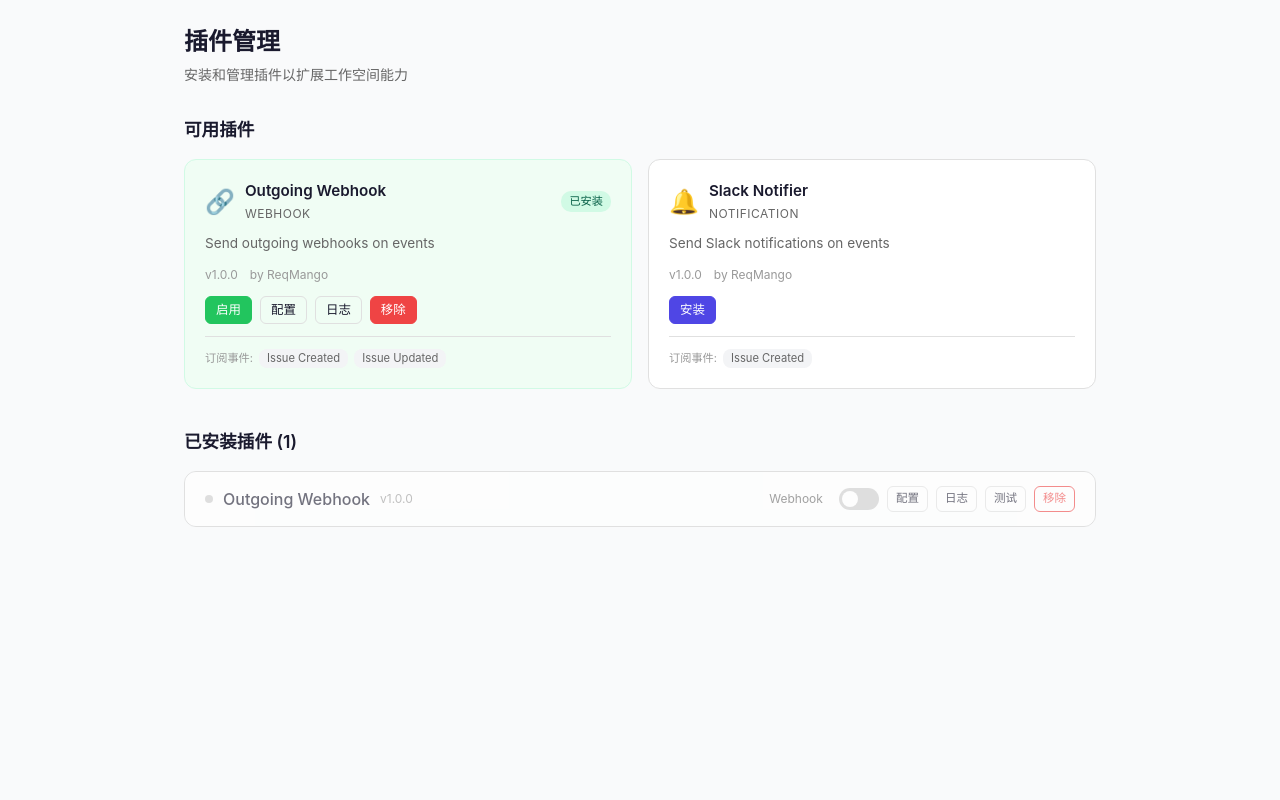
it: Config modal › should open config from catalog card Config button
Click the button with class "btn-outline" below "Send outgoing webhooks on events". click: (284, 310)
box: [260,296,307,324]
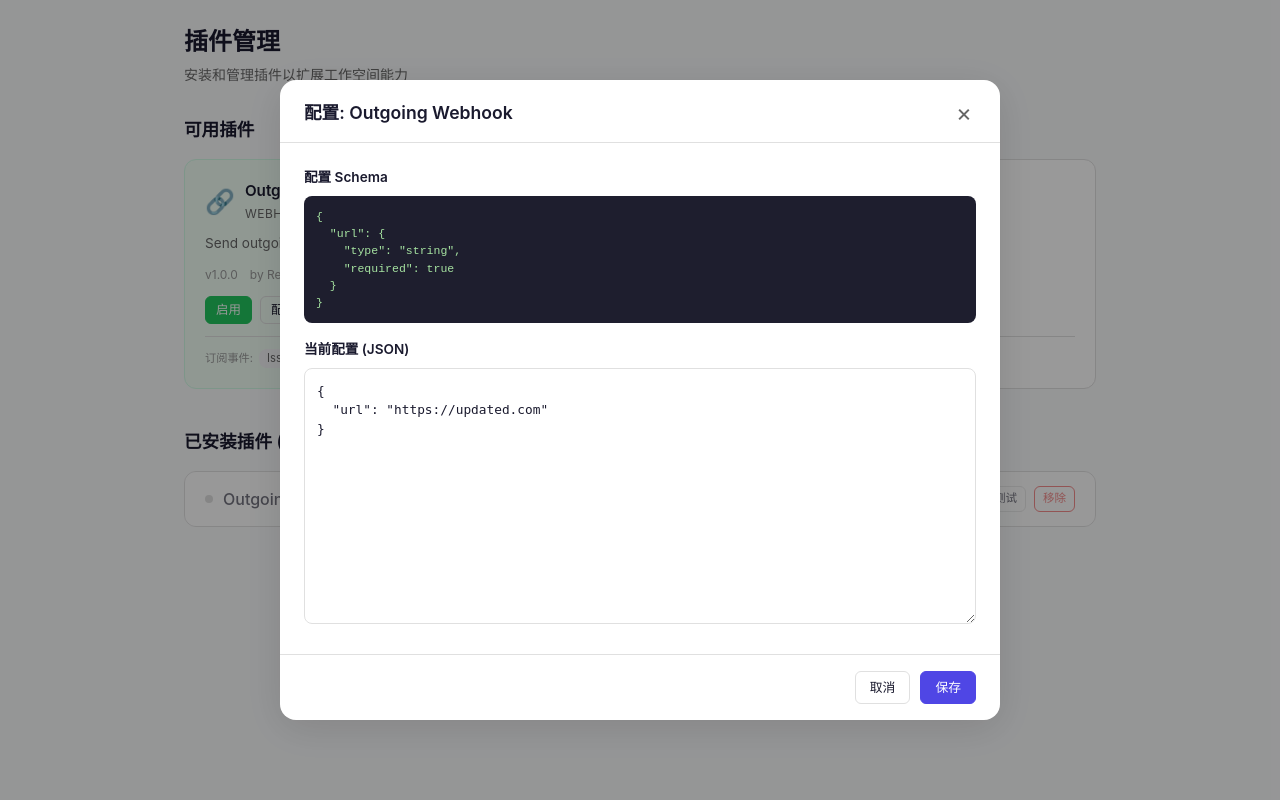
Expected: the element that starts with "配置: Outgoing Webhook" is shown, [280,80,1000,720]
